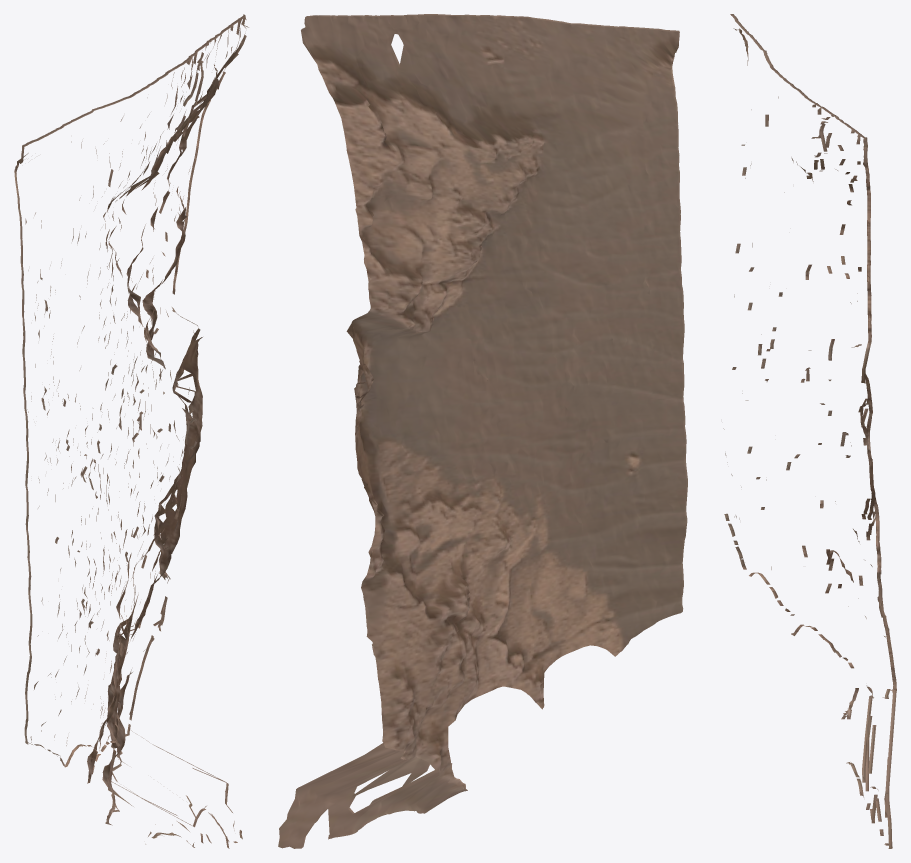
The picture shows the model from 3 angles, left to right: view 1: azimuth 30°, elevation 25°; view 2: azimuth 150°, elevation 25°; view 3: azimuth 270°, elevation 25°; orthographic projection. The views are drawn at different scales.
Size of the model in its own units: 1.14 by 2.91 by 0.6739.
1 material, 1 textured.
